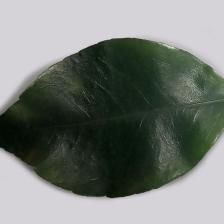healthy: (4, 49, 216, 187)
